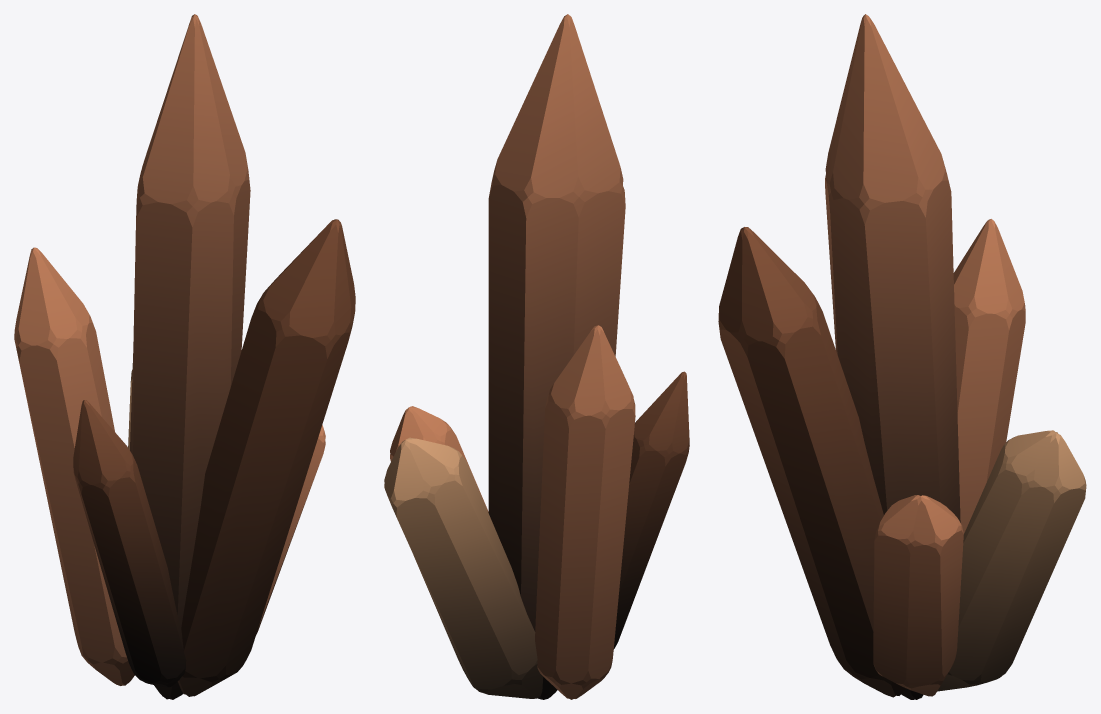
Rendered from crystal_terre.fbx.
The picture shows the model from 3 angles, left to right: view 1: azimuth 30°, elevation 25°; view 2: azimuth 150°, elevation 25°; view 3: azimuth 270°, elevation 25°; orthographic projection. The views are drawn at different scales.
Parts seen in each view (by area): view 1: Cylinder, Cylinder.005, Cylinder.001, Cylinder.004, Cylinder.003; view 2: Cylinder, Cylinder.001, Cylinder.002, Cylinder.004, Cylinder.003; view 3: Cylinder, Cylinder.005, Cylinder.002, Cylinder.003, Cylinder.001.
Boxes of the visible parts, left/top/right/bottom form: Cylinder: left=130, top=14, right=250, bottom=699; Cylinder.005: left=177, top=219, right=355, bottom=696; Cylinder.001: left=14, top=247, right=134, bottom=685; Cylinder.004: left=73, top=400, right=186, bottom=687; Cylinder.003: left=256, top=425, right=325, bottom=634; Cylinder: left=488, top=14, right=625, bottom=699; Cylinder.001: left=535, top=325, right=635, bottom=699; Cylinder.002: left=384, top=437, right=543, bottom=698; Cylinder.004: left=613, top=371, right=689, bottom=649; Cylinder.003: left=390, top=406, right=488, bottom=512; Cylinder: left=825, top=14, right=960, bottom=699; Cylinder.005: left=718, top=227, right=905, bottom=697; Cylinder.002: left=937, top=430, right=1086, bottom=691; Cylinder.003: left=873, top=495, right=963, bottom=696; Cylinder.001: left=953, top=219, right=1025, bottom=534.
Size of the model in its own units: 37.61 by 92.47 by 44.98.
1 material, 1 textured.
